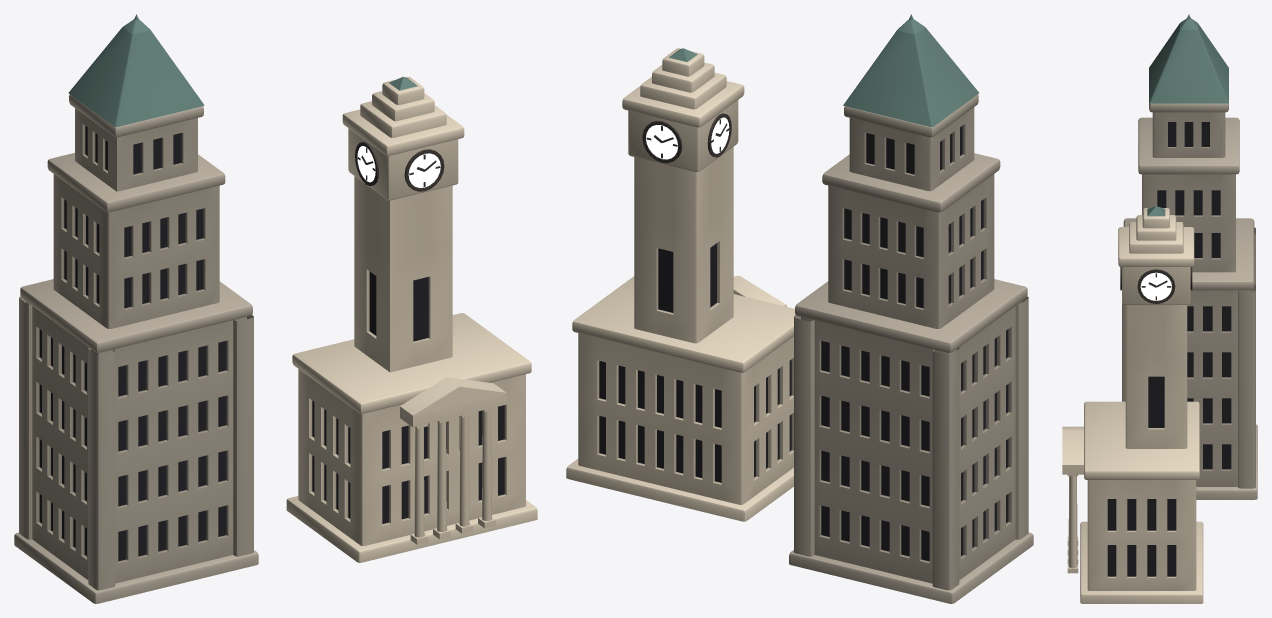
The model's file is landmark_shanghai_solo.glb.
The picture shows the model from 3 angles, left to right: view 1: azimuth 30°, elevation 25°; view 2: azimuth 150°, elevation 25°; view 3: azimuth 270°, elevation 25°; orthographic projection. The views are drawn at different scales.
Visible parts, largest first — view 1: PeaceHotel_Granite, Customs_Stone, Customs_Portico, PeaceHotel_Roof, Customs_Clocks; view 2: PeaceHotel_Granite, Customs_Stone, PeaceHotel_Roof, Customs_Clocks, Customs_Portico; view 3: Customs_Stone, PeaceHotel_Granite, PeaceHotel_Roof, Customs_Portico, Customs_Clocks.
Part boxes in pixels (x1,y1,x2,y2): PeaceHotel_Granite: (14, 94, 258, 603); Customs_Stone: (286, 77, 537, 562); Customs_Portico: (400, 377, 506, 544); PeaceHotel_Roof: (68, 14, 204, 127); Customs_Clocks: (355, 142, 444, 191); PeaceHotel_Granite: (789, 94, 1033, 603); Customs_Stone: (566, 48, 795, 521); PeaceHotel_Roof: (843, 14, 978, 127); Customs_Clocks: (642, 113, 731, 163); Customs_Portico: (733, 275, 786, 306); Customs_Stone: (1080, 208, 1203, 603); PeaceHotel_Granite: (1122, 103, 1257, 499); PeaceHotel_Roof: (1149, 14, 1228, 103); Customs_Portico: (1062, 426, 1083, 573); Customs_Clocks: (1120, 267, 1192, 303).
Bounding box in the file's own units: 1.12 × 1.38 × 0.54.
